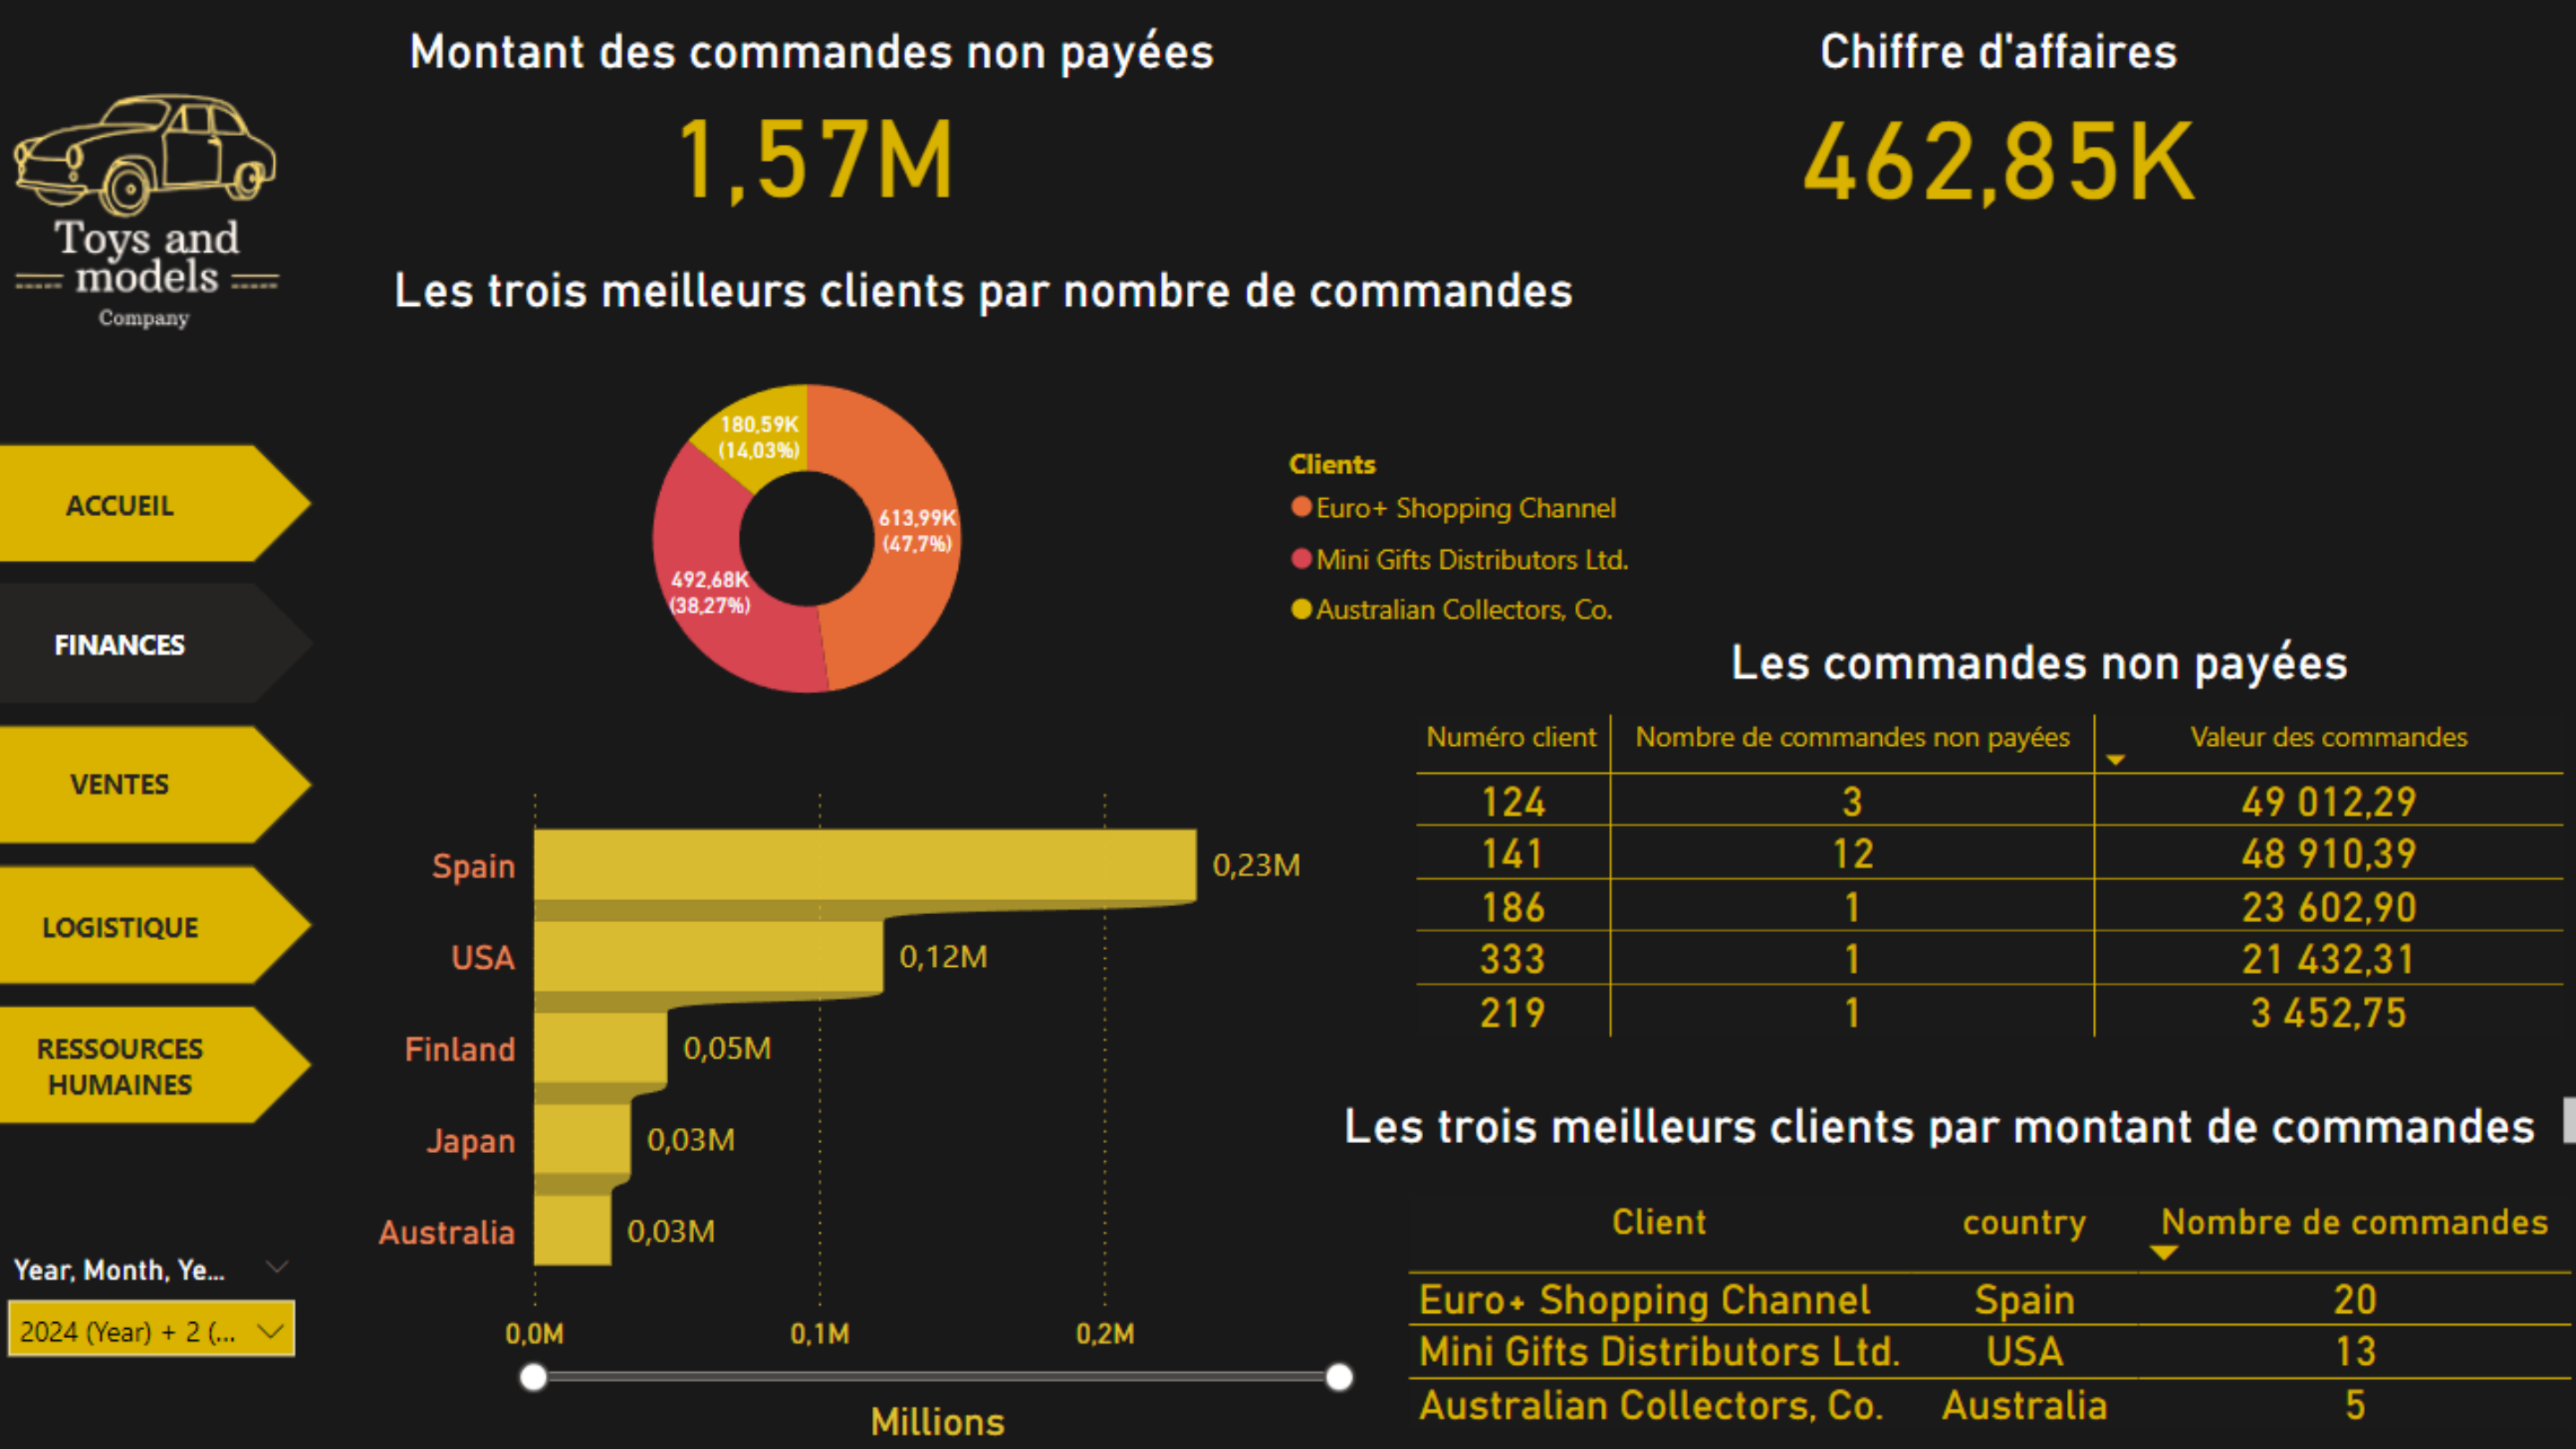

The dashboard page shown, as its layout file describes it:
{"tool":"powerbi","page":{"name":"FINANCES","canvas":[1280,720],"ordinal":1},"visuals":[{"type":"image","box":[0,0,162,209],"z":0},{"type":"pageNavigator","box":[0,224,162,335],"z":1000},{"type":"tableEx","title":"Les commandes non payées","fields":{"Values":["Sum(Requête1.customerNumber)","Sum(Requête1.nb_orders_not_paid)","Sum(Requête1.order_value)"]},"box":[697.8,351.1,582.2,176.9],"z":2000},{"type":"card","title":"Total commandes non payées","fields":{"Values":["Sum(Total non payées.total_order_value_with_unpaid)"]},"box":[252.5,51.8,310,73.3],"z":3000},{"type":"card","title":"Chiffre d''affaires","fields":{"Values":["Sum(Finances CA.Chiffre d'affaires)"]},"box":[835.2,40.6,308.8,96.9],"z":4000},{"type":"donutChart","title":"Les 3 meilleurs clients par montant de commandes","fields":{"Category":["Requête1.customerName"],"Y":["Sum(Requête1.total_order_value)"]},"box":[162,175.1,659.3,204],"z":5000},{"type":"tableEx","title":"Les 3 meilleurs client par nombre de commandes","fields":{"Values":["Requête1.customerName","Requête2.country","Sum(Requête1.number_of_orders)"]},"box":[212.2,576.7,586.6,130.7],"z":6000},{"type":"slicer","fields":{"Values":["Datum.Year","Datum.Month","Datum.Year-Month"]},"box":[0,588,162,76],"z":7000},{"type":"textbox","box":[115,12.4,582.7,39.4],"z":8000},{"type":"textbox","box":[697.7,12.4,582.7,39.4],"z":9000},{"type":"textbox","box":[153.2,155,629.5,39.4],"z":11000},{"type":"textbox","box":[841.4,302.1,333.6,40.3],"z":12000},{"type":"textbox","box":[190.7,528.4,630.4,34.9],"z":13000}]}

Visuals, with their boxes in screenshot pixels (x1, y1, x2, y2), scaled from the page's 1280x720 canvas onto the 2576x1449 screenshot:
image: 0, 0, 326, 420
pageNavigator: 0, 451, 326, 1125
"Les commandes non payées" tableEx: 1404, 707, 2575, 1063
"Total commandes non payées" card: 508, 105, 1132, 251
"Chiffre d''affaires" card: 1681, 81, 2302, 276
"Les 3 meilleurs clients par montant de commandes" donutChart: 326, 352, 1653, 763
"Les 3 meilleurs client par nombre de commandes" tableEx: 427, 1161, 1607, 1424
slicer - Datum.Year x Datum.Month: 0, 1183, 326, 1336
textbox: 232, 25, 1404, 105
textbox: 1404, 25, 2575, 105
textbox: 309, 312, 1575, 391
textbox: 1693, 608, 2365, 689
textbox: 384, 1063, 1652, 1133
